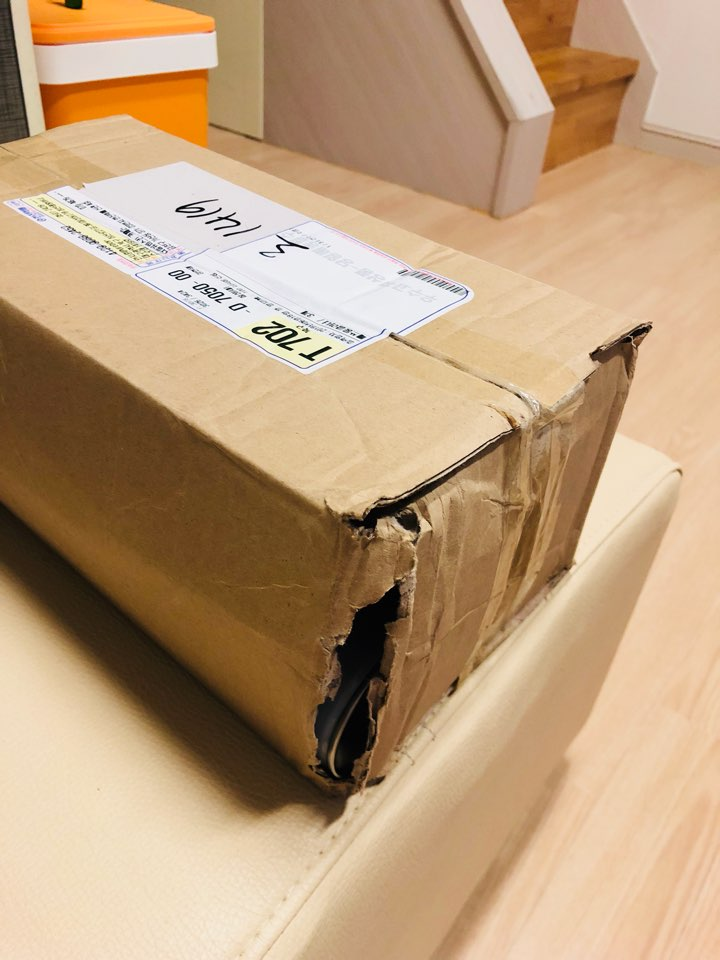damaged package: (304, 457, 425, 803), (573, 318, 656, 401)
